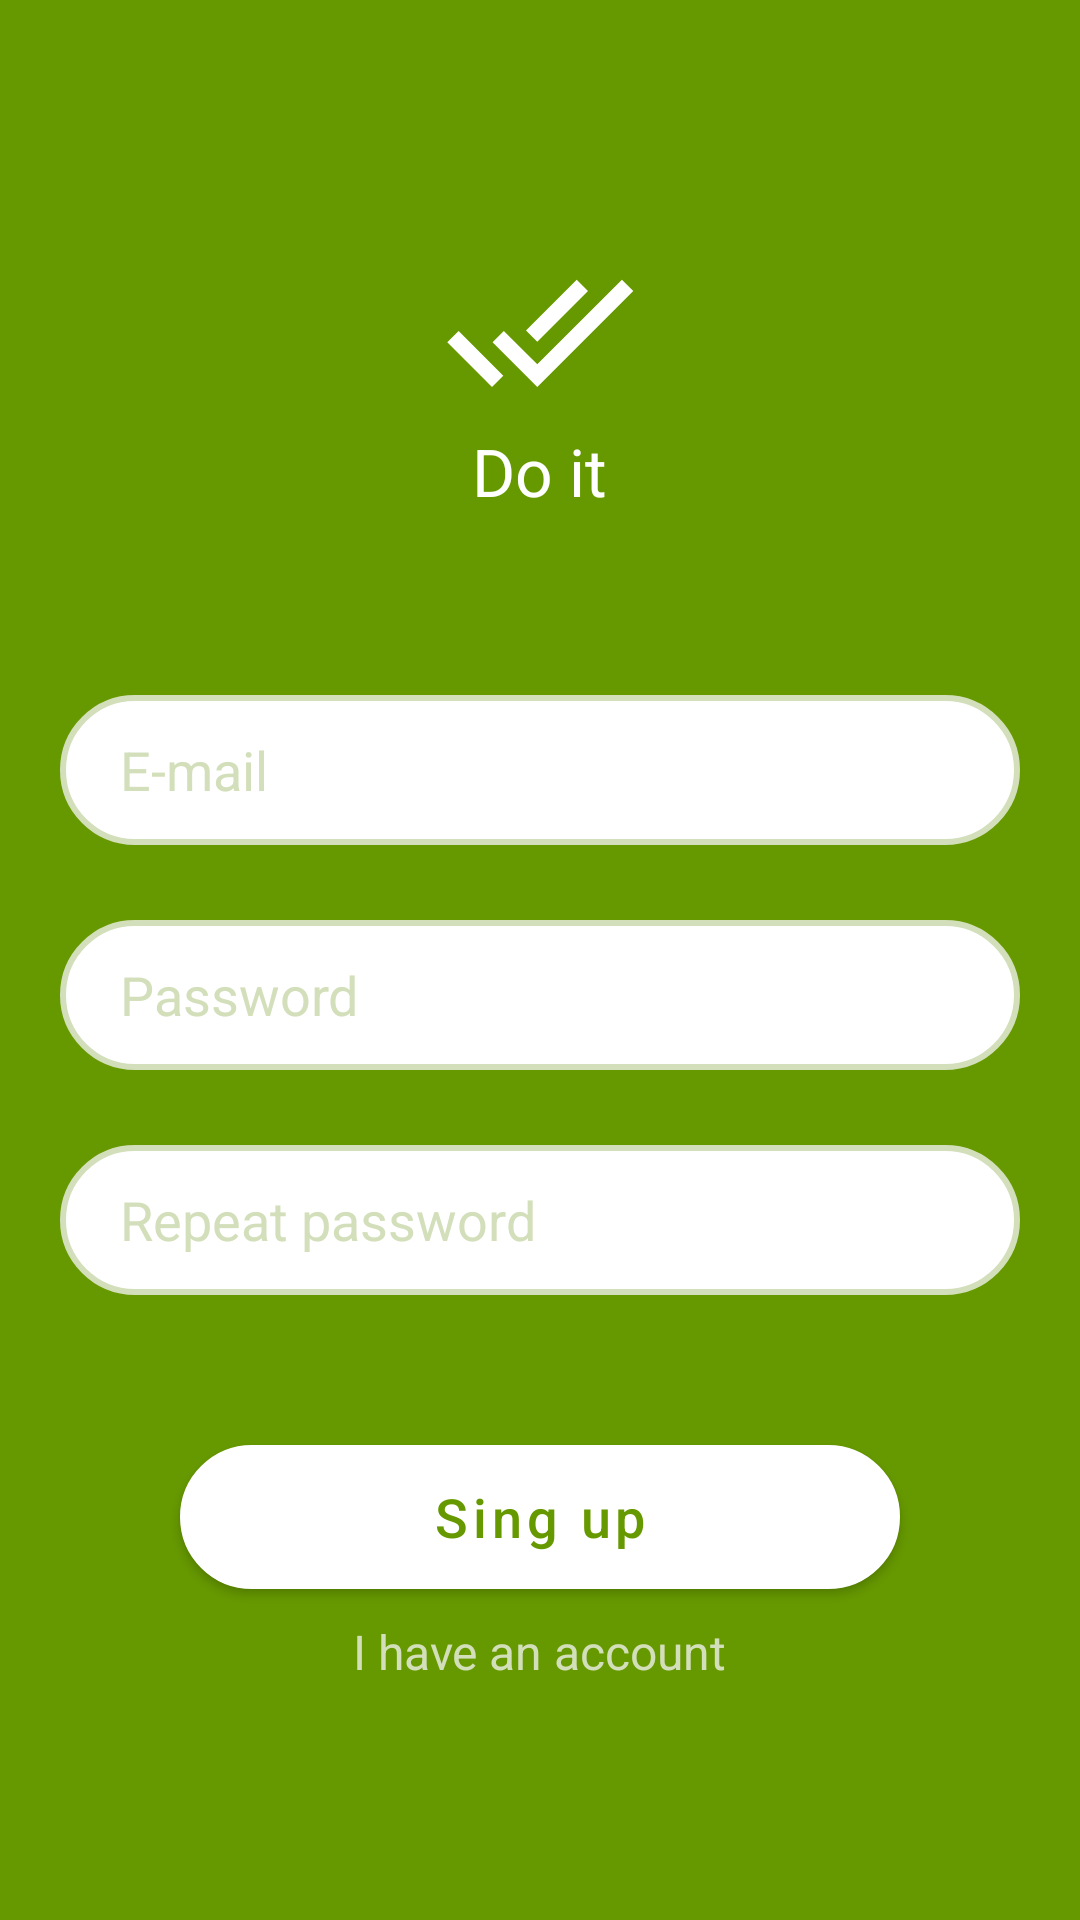

Named icons in this screenshot (1080 × 1920) and their centers, point (x, y):
done all: point (540, 333)
